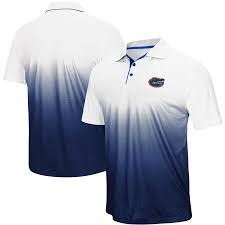S_polo shirt: (85, 37, 222, 218)
